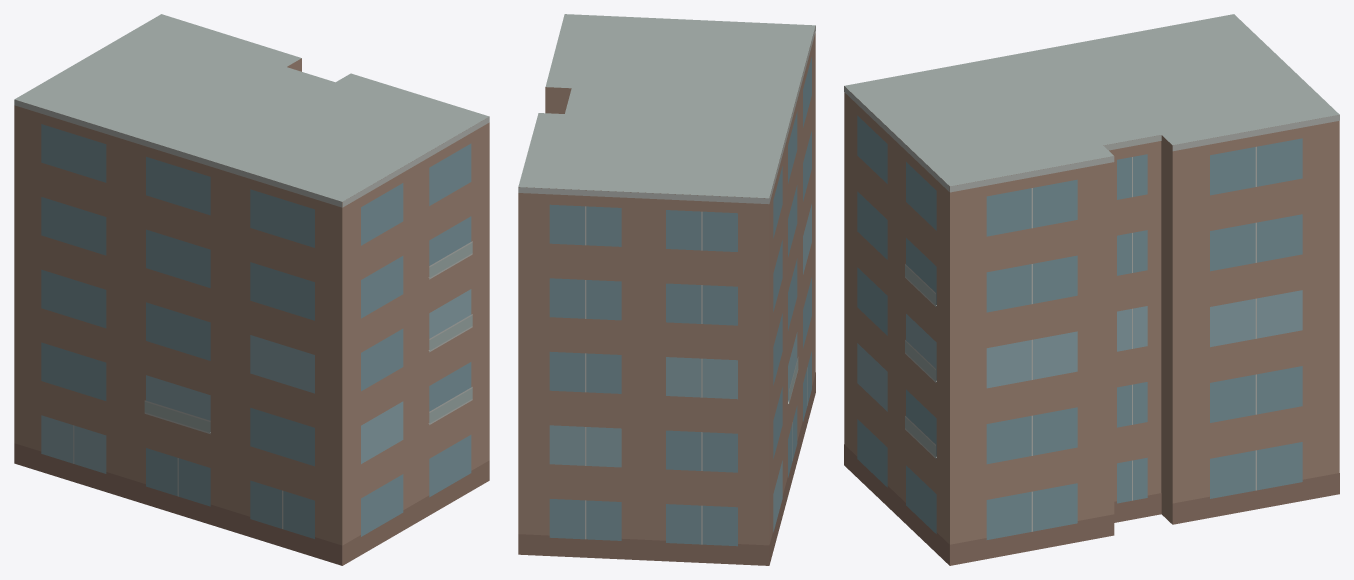
File: survey-upis-32595389.glb
The picture shows the model from 3 angles, left to right: view 1: azimuth 30°, elevation 25°; view 2: azimuth 150°, elevation 25°; view 3: azimuth 270°, elevation 25°; orthographic projection. The views are drawn at different scales.
Parts seen in each view (by area): view 1: survey-upis-32595389.tmp; view 2: survey-upis-32595389.tmp; view 3: survey-upis-32595389.tmp.
Part boxes in pixels (<box>): survey-upis-32595389.tmp: <box>14,14,489,565</box>; survey-upis-32595389.tmp: <box>518,14,815,565</box>; survey-upis-32595389.tmp: <box>844,14,1339,565</box>.
Bounding box in the file's own units: 14.87 × 15.25 × 18.06.
